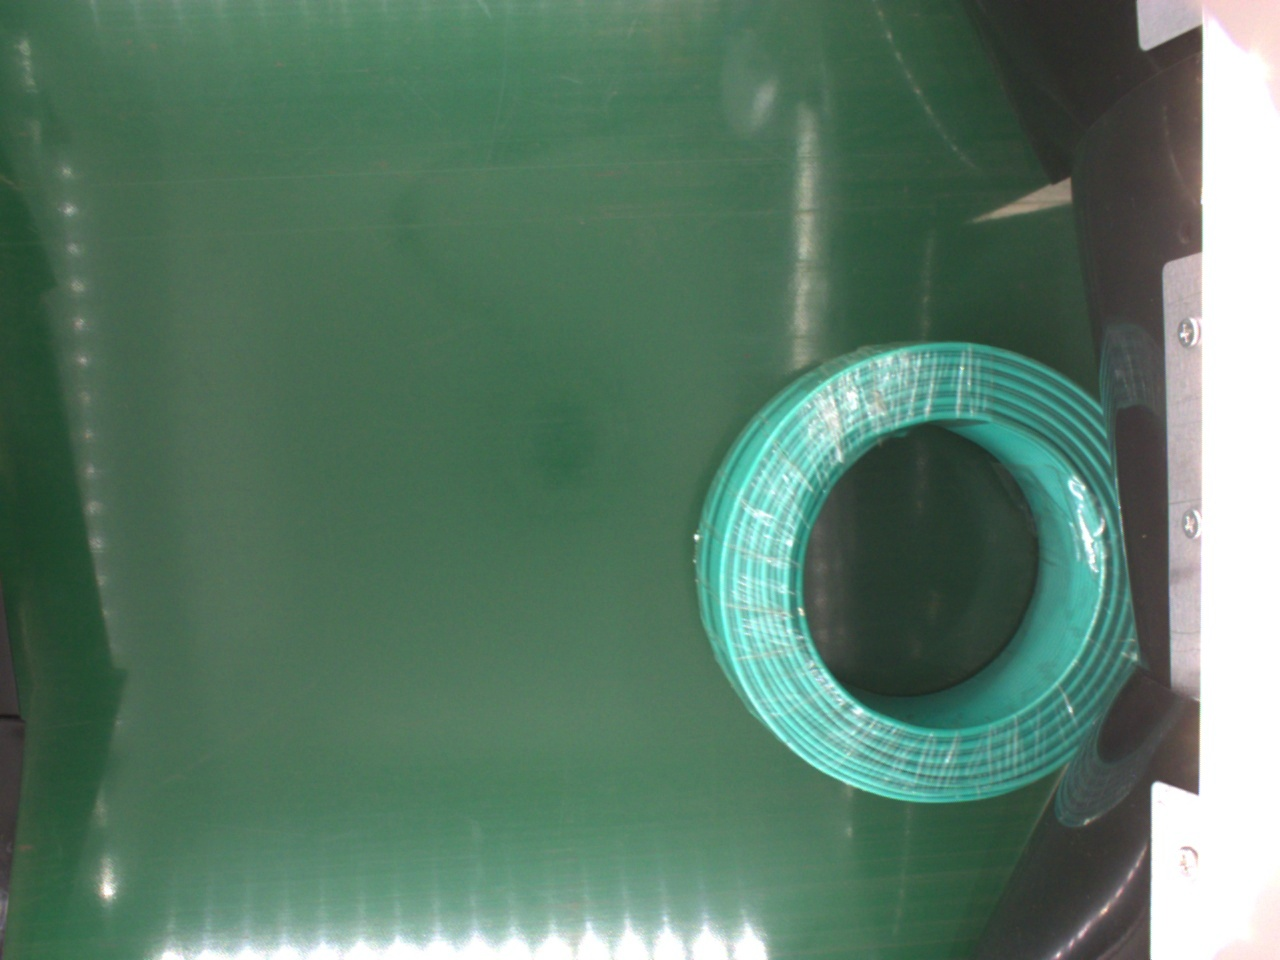green: (692, 334, 1146, 808)
